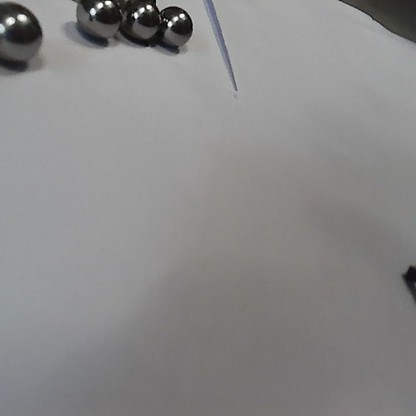ironball: (0, 0, 49, 66), (74, 0, 118, 44), (119, 0, 159, 46), (157, 0, 190, 50)
